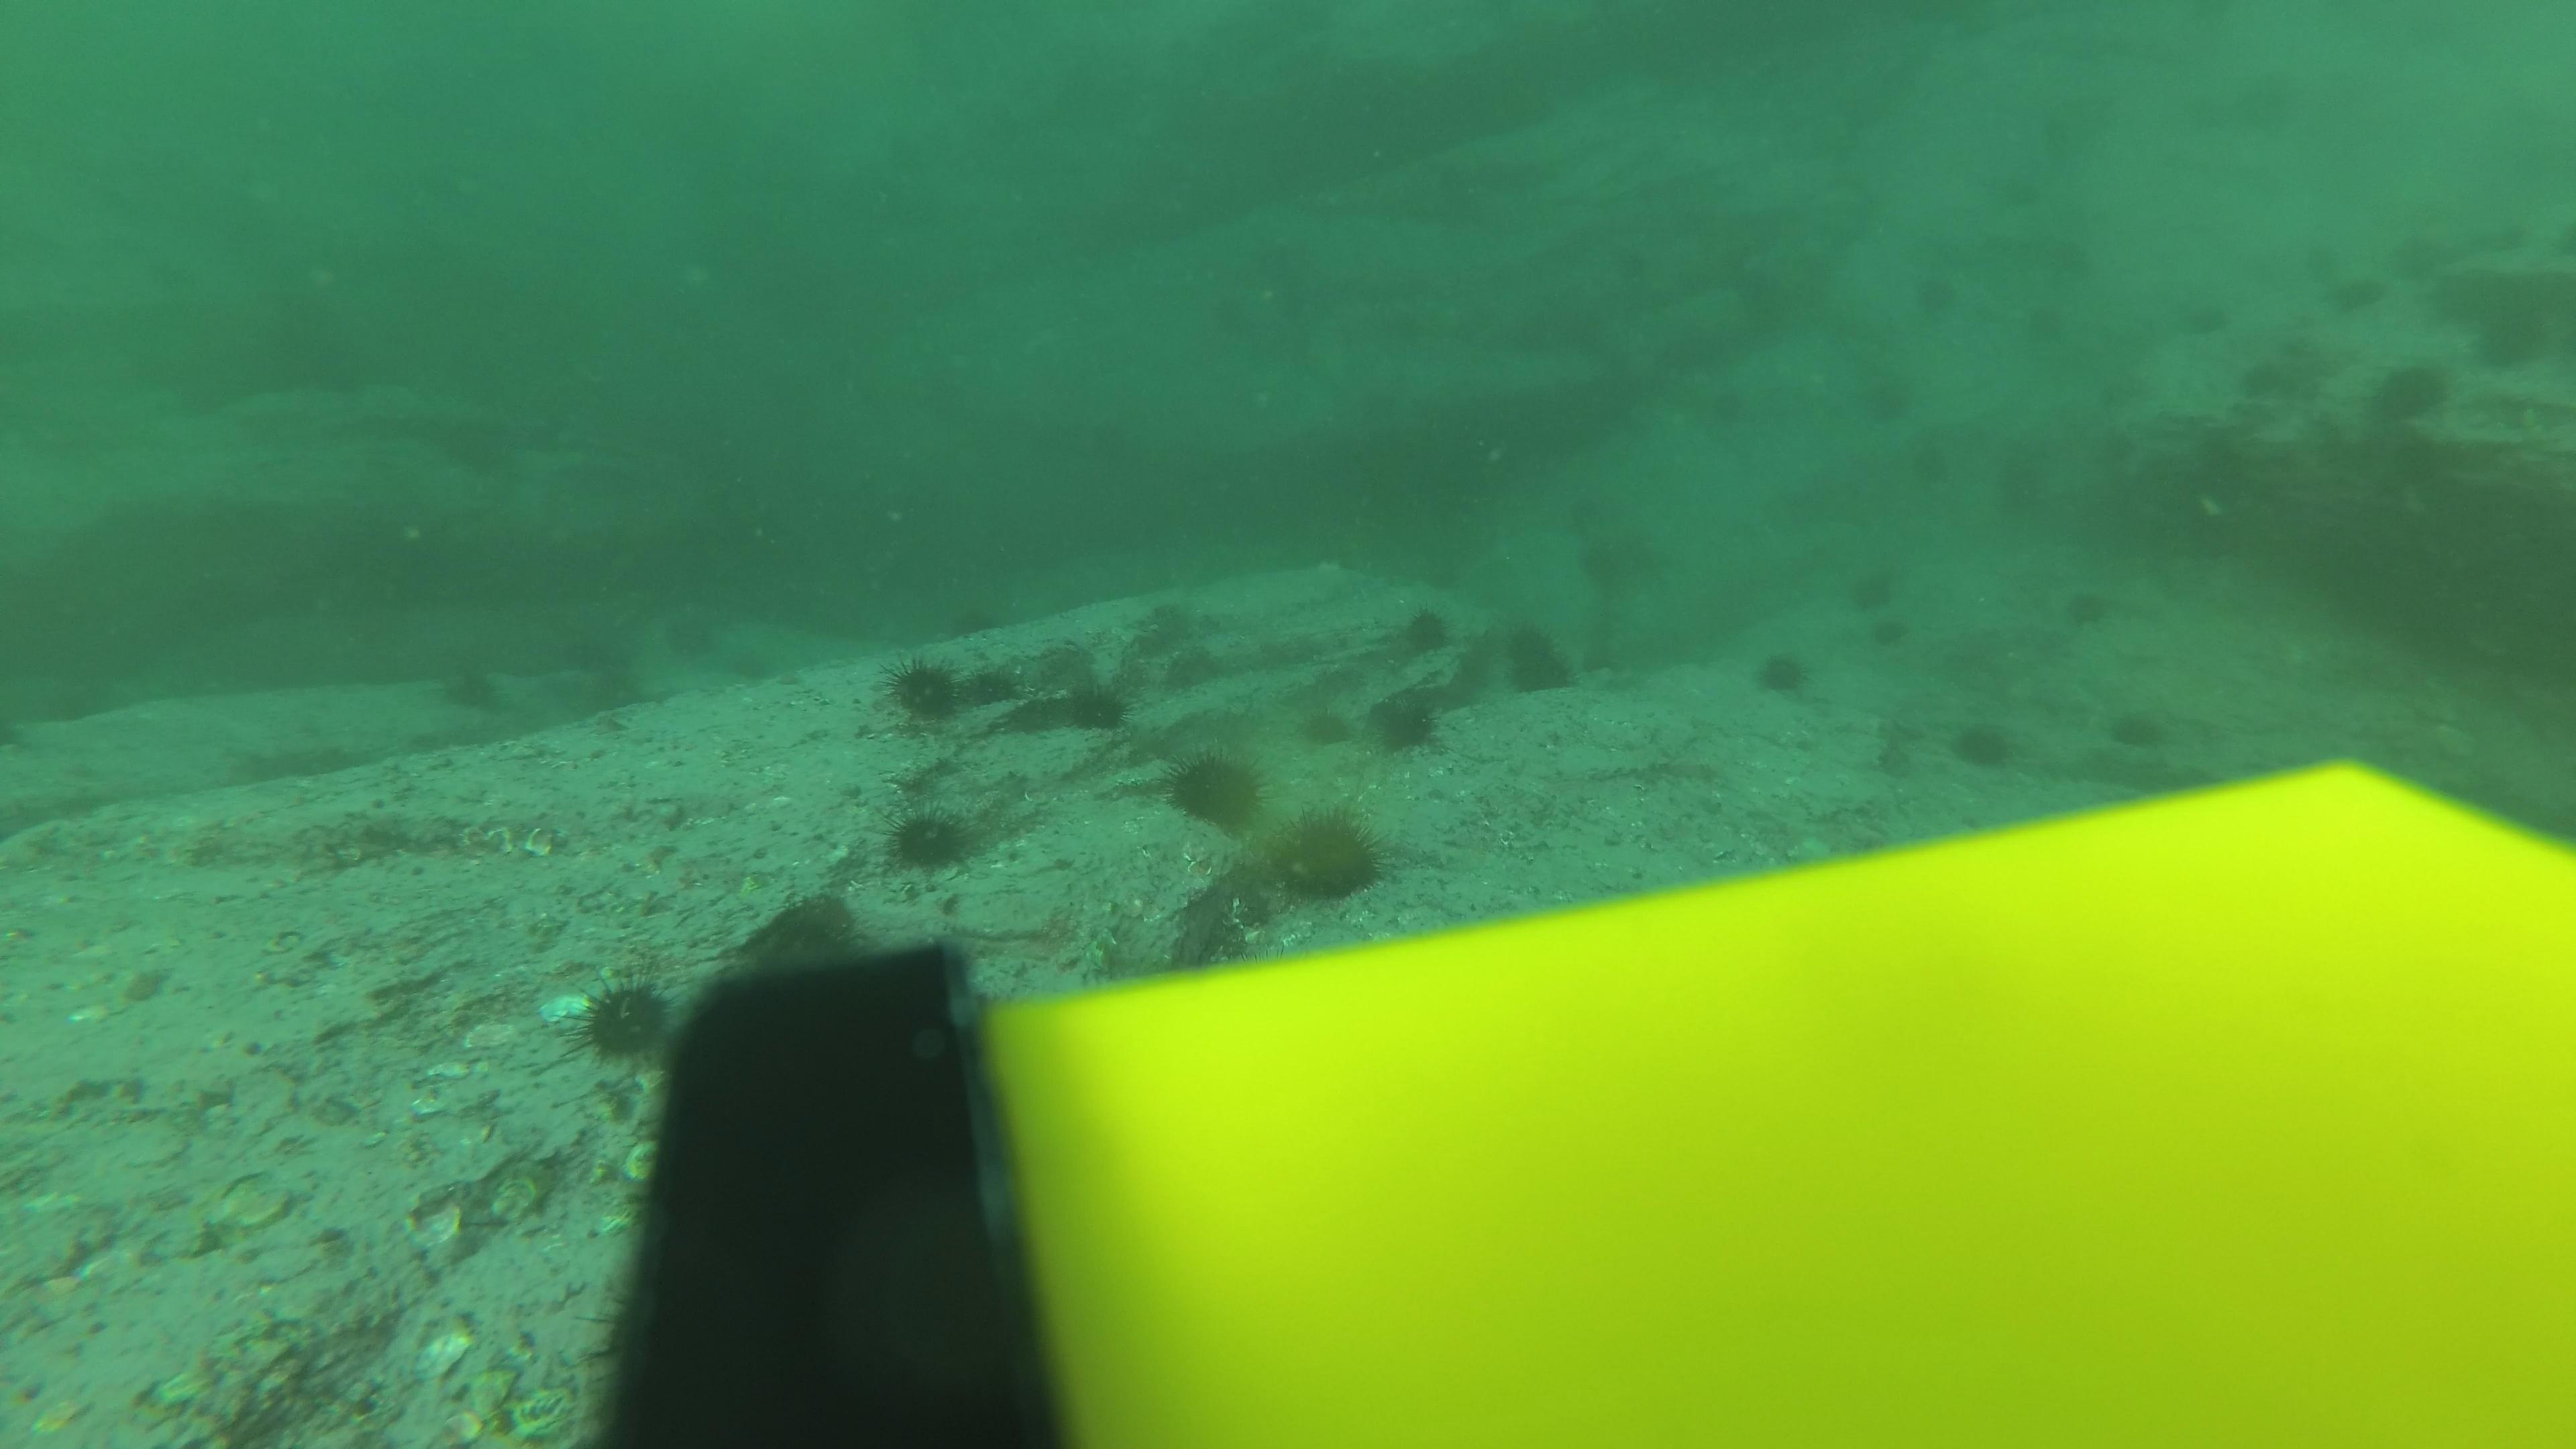echinus: (1267, 807, 1389, 909), (566, 970, 685, 1072), (1159, 743, 1270, 835), (879, 798, 989, 881), (878, 651, 977, 732), (2364, 354, 2456, 430), (1362, 681, 1449, 759), (1060, 672, 1134, 738), (1946, 713, 2020, 777), (432, 656, 508, 717), (1750, 644, 1815, 702), (1513, 644, 1573, 706), (1396, 600, 1456, 656), (945, 605, 1008, 656), (658, 607, 720, 658), (959, 658, 1023, 708), (1868, 616, 1914, 660), (1851, 566, 1897, 610), (1999, 467, 2045, 511), (1909, 441, 1955, 485), (1916, 271, 1962, 315), (2020, 299, 2066, 343), (2176, 297, 2222, 341), (1562, 492, 1608, 536), (1713, 375, 1759, 419), (1507, 621, 1553, 665), (2065, 584, 2109, 628), (2116, 713, 2160, 757), (1863, 382, 1907, 426), (2293, 234, 2337, 278), (1307, 704, 1352, 748), (2047, 235, 2093, 278), (2242, 352, 2288, 395), (2337, 278, 2383, 320), (1576, 538, 1622, 580)
